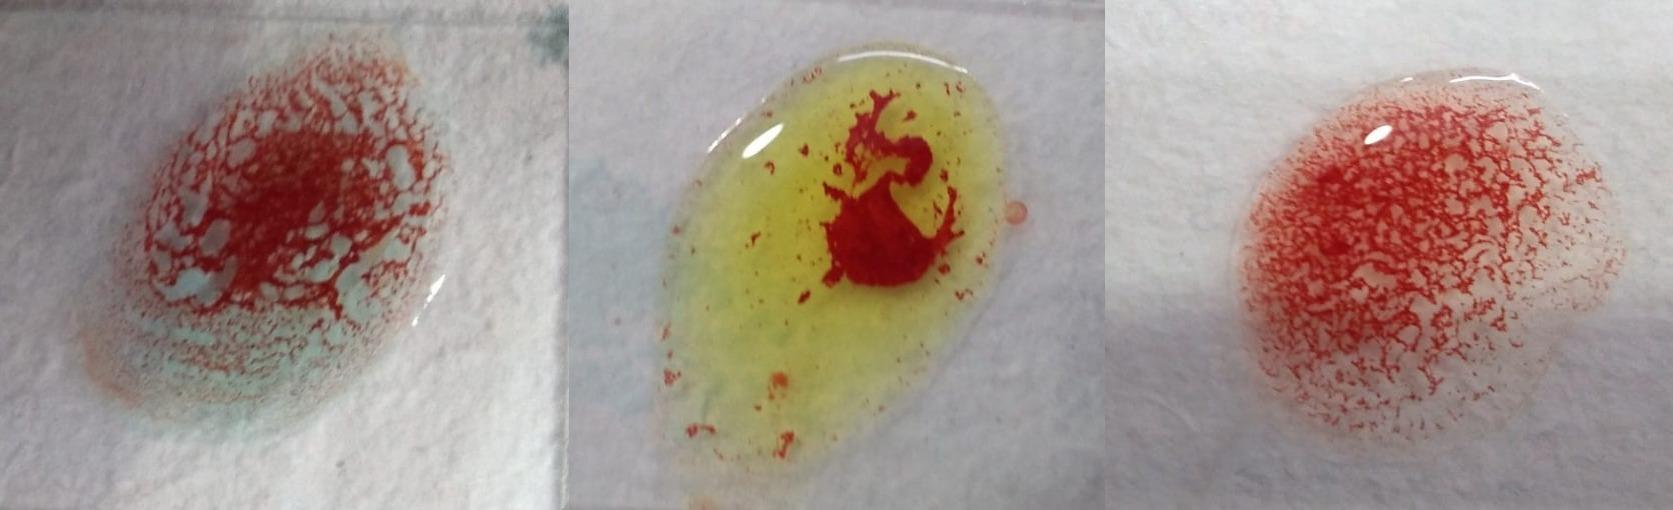A: (70, 35, 459, 433)
B: (655, 55, 1011, 471)
D: (1248, 71, 1622, 453)
